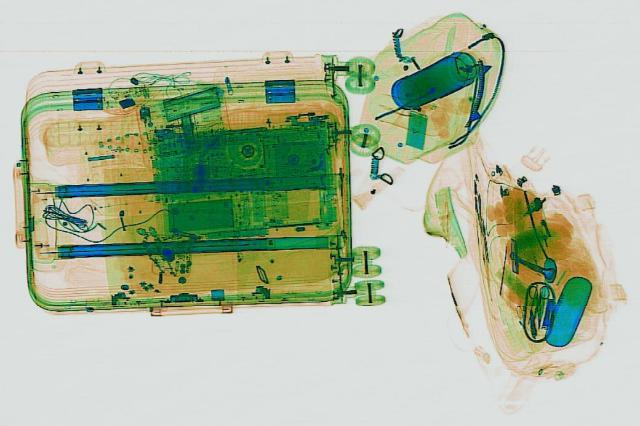Scissors: (522, 282, 550, 333)
